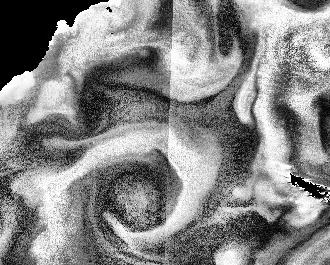AE: (82, 130, 196, 241)
